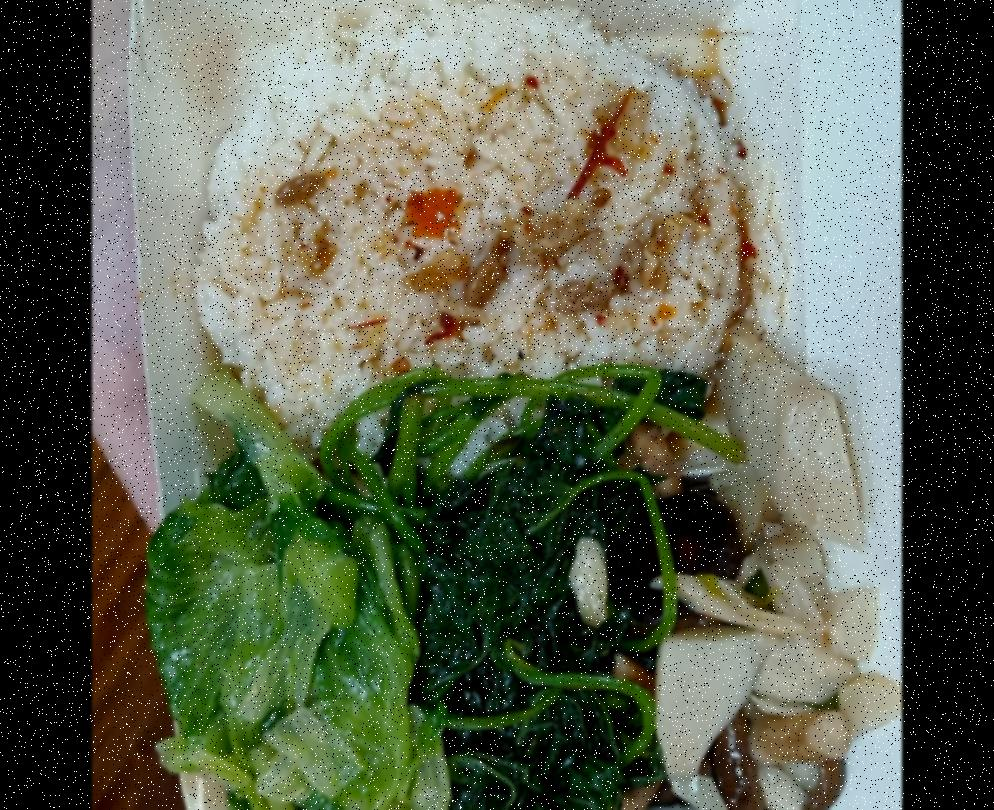box: (124, 0, 838, 810)
side dish: (629, 343, 869, 810), (187, 400, 433, 810), (412, 388, 629, 810)
white rice: (195, 13, 742, 484)
